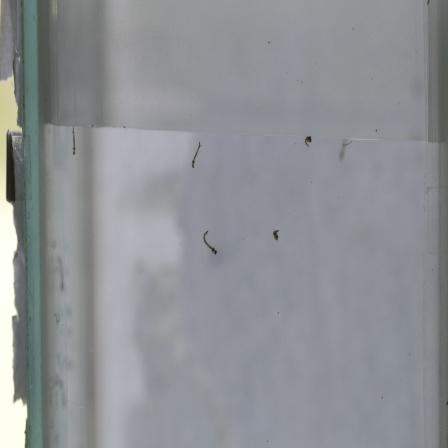Jentik-Nyamuk: (199, 227, 222, 257), (188, 137, 205, 174), (268, 222, 285, 246), (67, 124, 79, 157), (301, 130, 318, 152)
